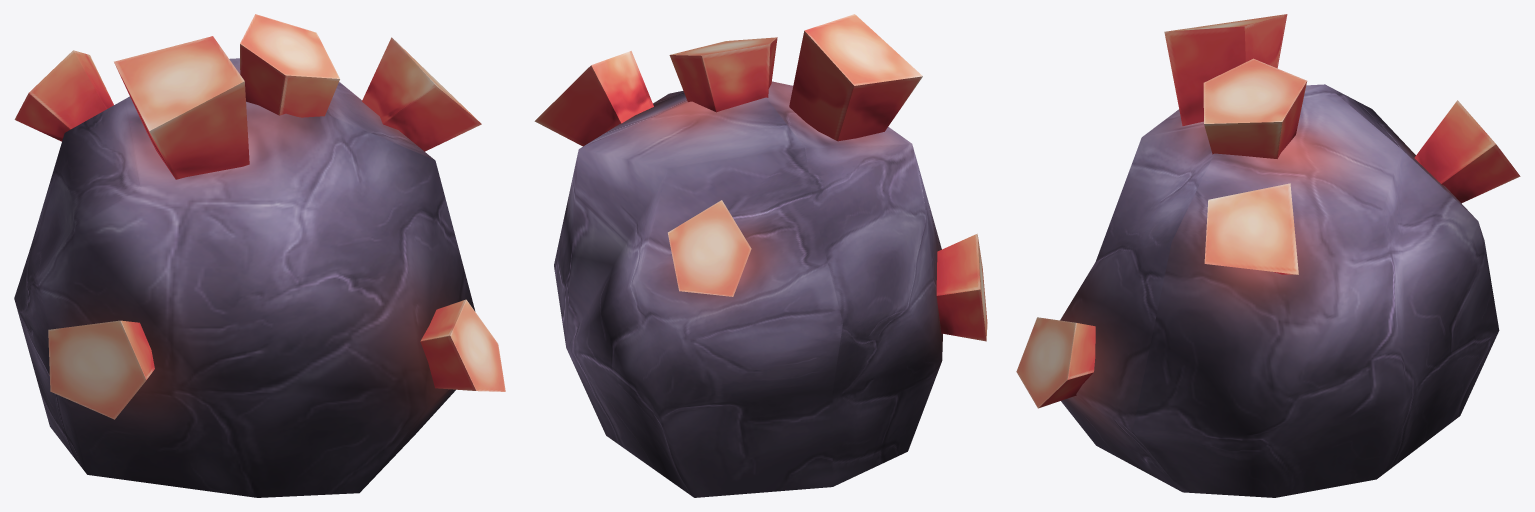
File: ore_small_meteore.fbx
The picture shows the model from 3 angles, left to right: view 1: azimuth 30°, elevation 25°; view 2: azimuth 150°, elevation 25°; view 3: azimuth 270°, elevation 25°; orthographic projection. The views are drawn at different scales.
Visible parts, largest first — view 1: ore_small_meteore:Mesh; view 2: ore_small_meteore:Mesh; view 3: ore_small_meteore:Mesh.
Part boxes in pixels (x1,y1,x2,y2): ore_small_meteore:Mesh: [14, 14, 505, 497]; ore_small_meteore:Mesh: [534, 14, 987, 497]; ore_small_meteore:Mesh: [1016, 14, 1520, 497].
Size of the model in its own units: 3.71 by 3.36 by 3.96.
